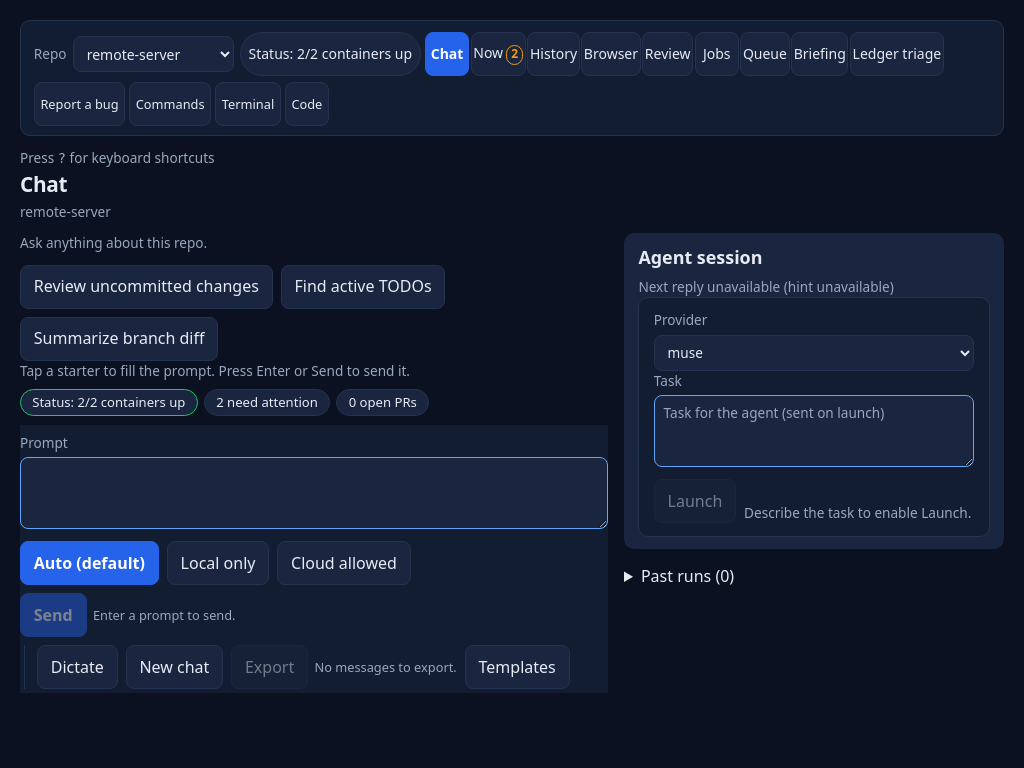
Test case: console audit routing (#1317) › shows only review until Close returns to Now
Click the button with test id "nav-now": [498, 54] box [471,32,526,76]
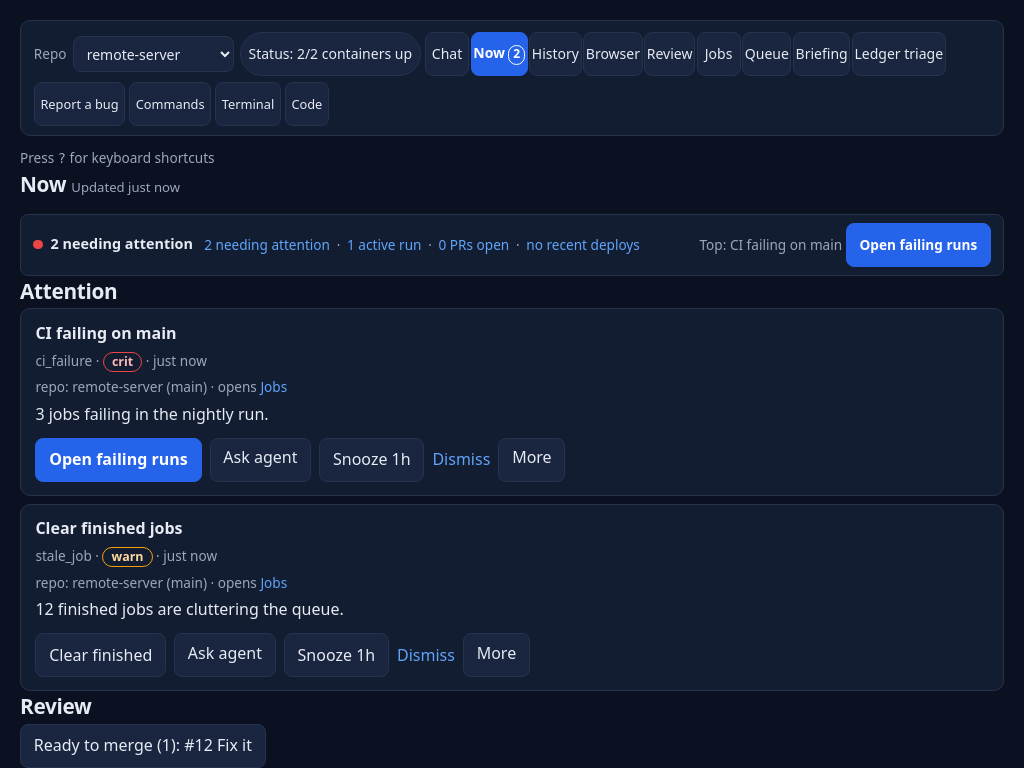
Click the button with test id "nav-review": [670, 54] box [644,32,695,76]
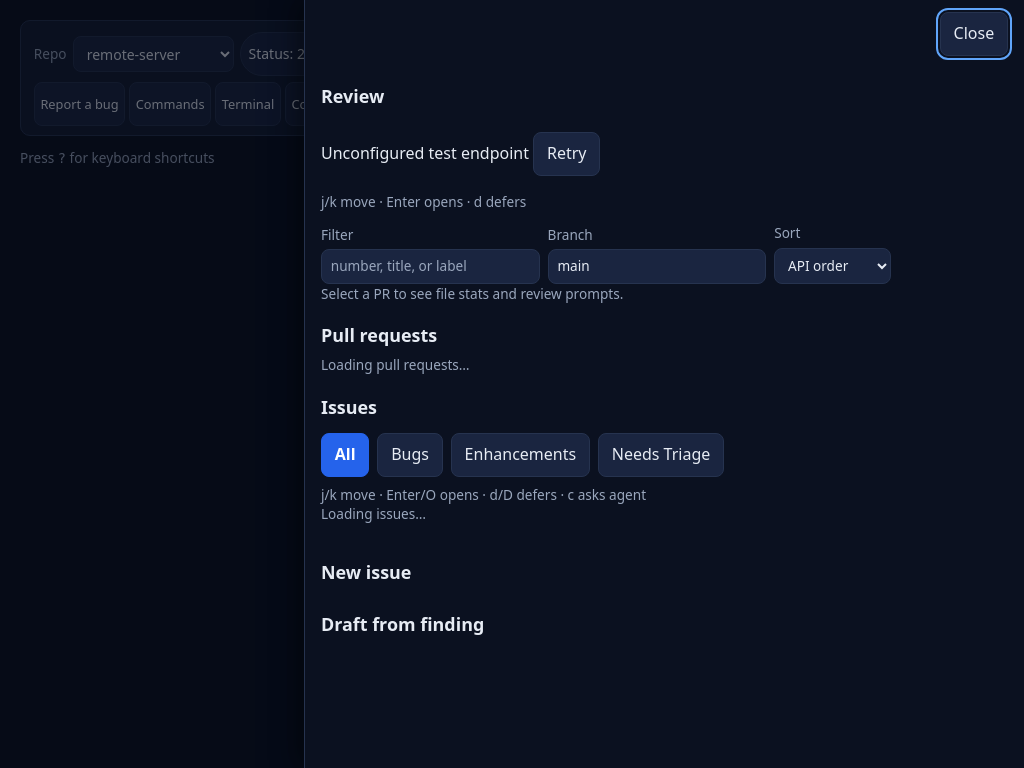
Check: the element with test id "review-view" is shown, box [321,84,891,636]
Click the button "Close": [974, 34] box [940,12,1008,56]
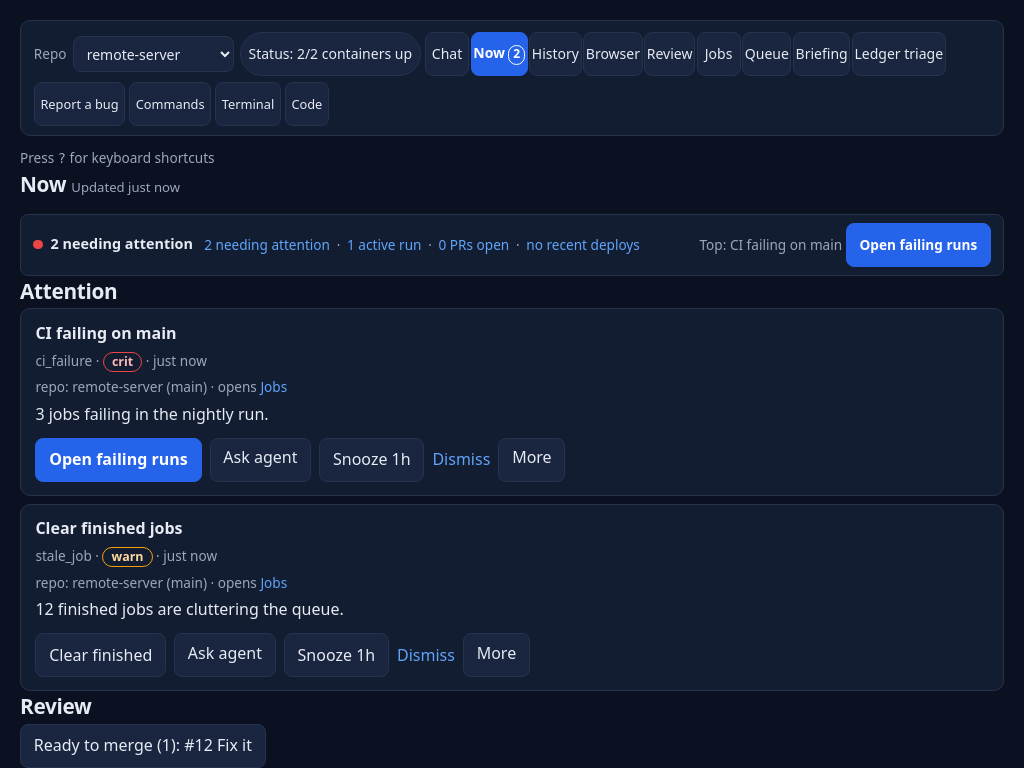
Check: the element with test id "review-view" is gone
